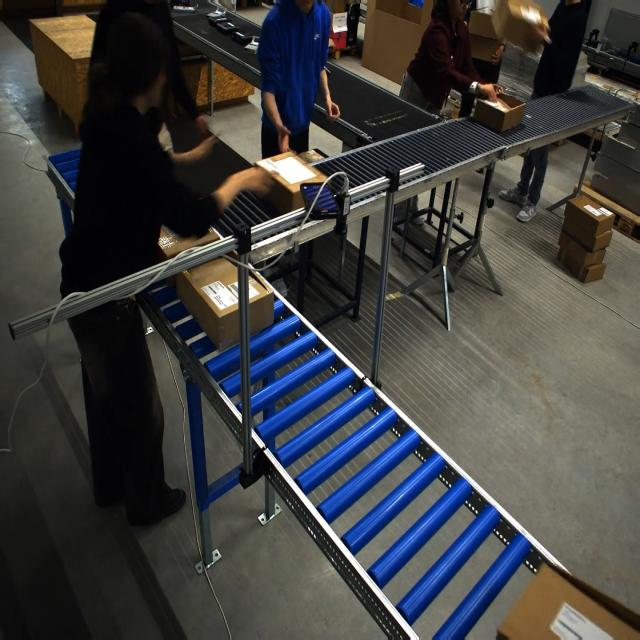box: (494, 560, 640, 638), (177, 253, 274, 352), (255, 148, 328, 217), (157, 221, 223, 283), (471, 90, 525, 132)
product: (232, 30, 254, 45), (215, 21, 237, 35), (208, 16, 229, 29), (243, 39, 260, 54), (171, 4, 197, 13), (206, 11, 227, 21)
